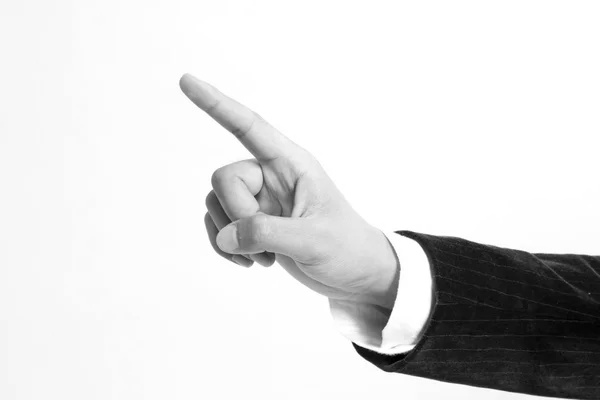pointing_gesture: (172, 66, 392, 299)
